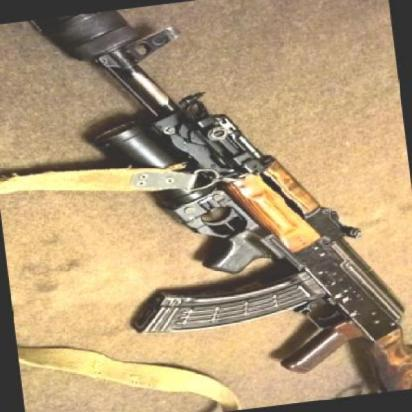Gun: (53, 15, 398, 372)
